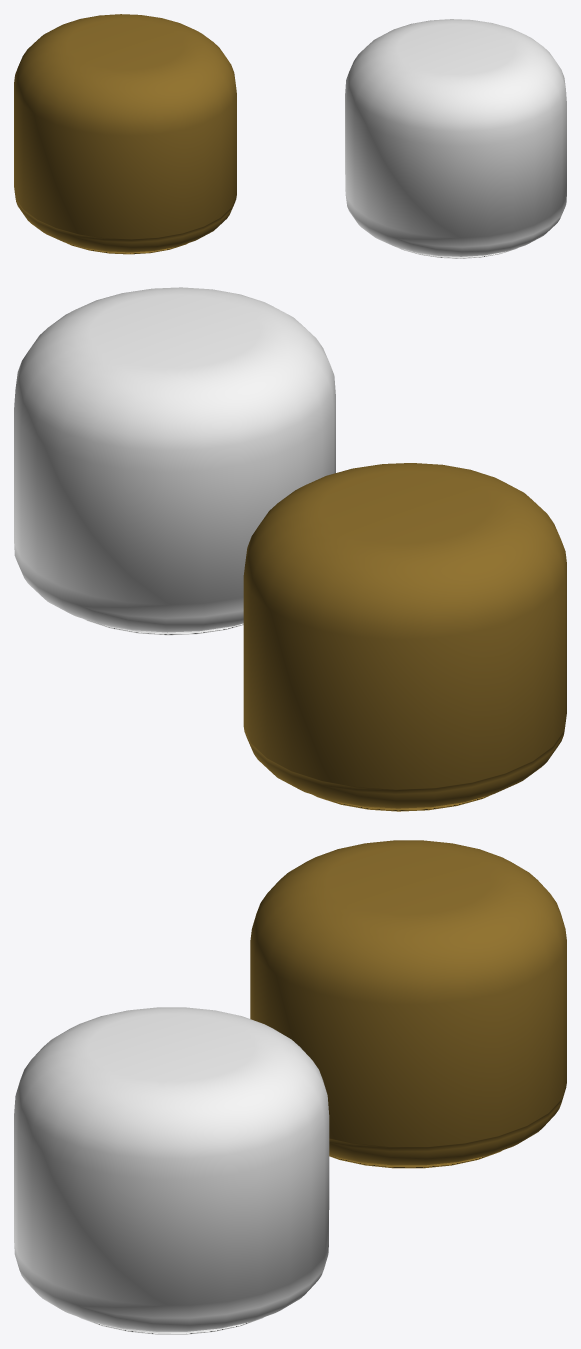
File: demo.gltf.glb
The picture shows the model from 3 angles, top to bottom: view 1: azimuth 30°, elevation 25°; view 2: azimuth 150°, elevation 25°; view 3: azimuth 270°, elevation 25°; orthographic projection. The views are drawn at different scales.
Visible parts, largest first — view 1: Cylinder; view 2: Cylinder; view 3: Cylinder.
Part boxes in pixels (x1,y1,x2,y2): Cylinder: (14,14,566,258); Cylinder: (14,287,566,811); Cylinder: (14,840,566,1334).
Size of what is drawn, in the model's own units: 5.93 by 2.27 by 4.74.
